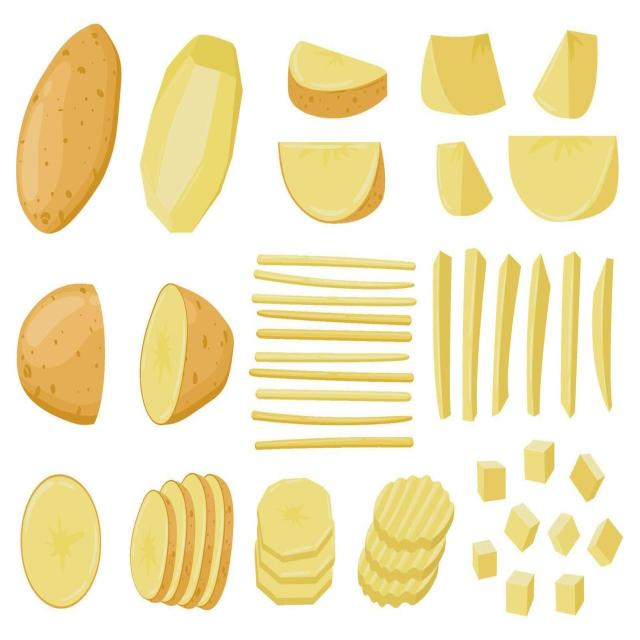papa: (10, 24, 122, 238)
